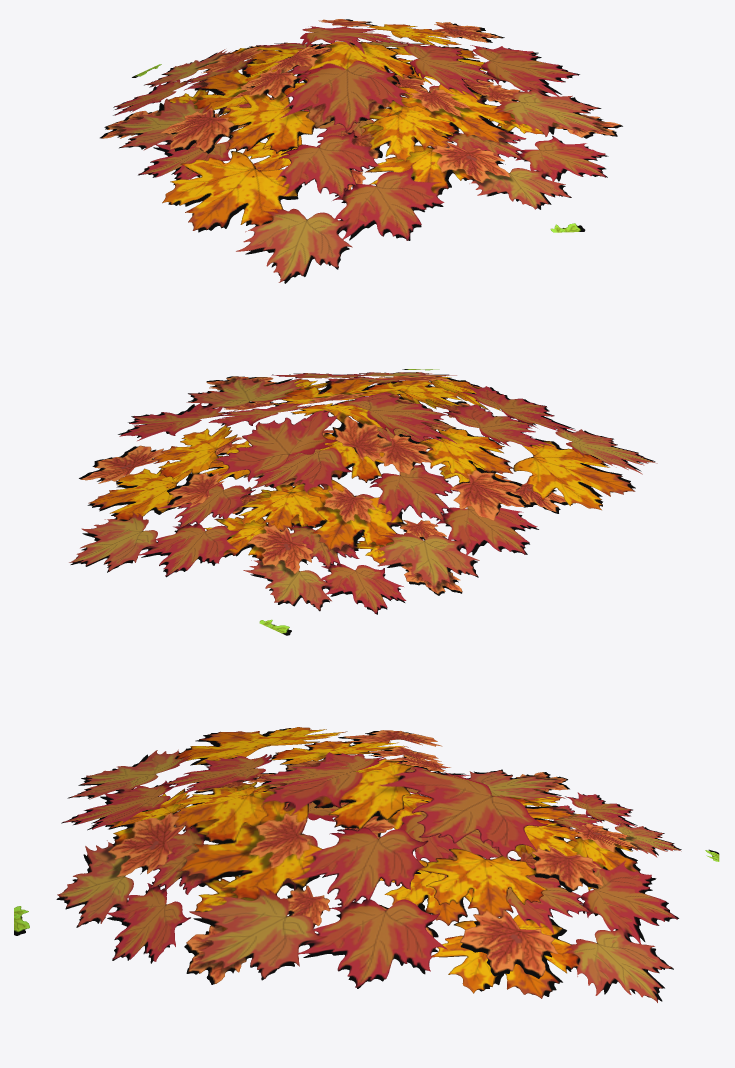
File: Bush.fbx
3 renders of one model, top to bottom at view 1: azimuth 30°, elevation 25°; view 2: azimuth 150°, elevation 25°; view 3: azimuth 270°, elevation 25°, orthographic. The views are drawn at different scales.
Parts seen in each view (by area): view 1: Bush; view 2: Bush; view 3: Bush.
Part boxes in pixels (bbox=[...]): Bush: bbox=[100, 19, 622, 283]; Bush: bbox=[69, 369, 657, 635]; Bush: bbox=[14, 727, 719, 1002].
Bounding box in the file's own units: 2.18 × 0.6308 × 2.43.
